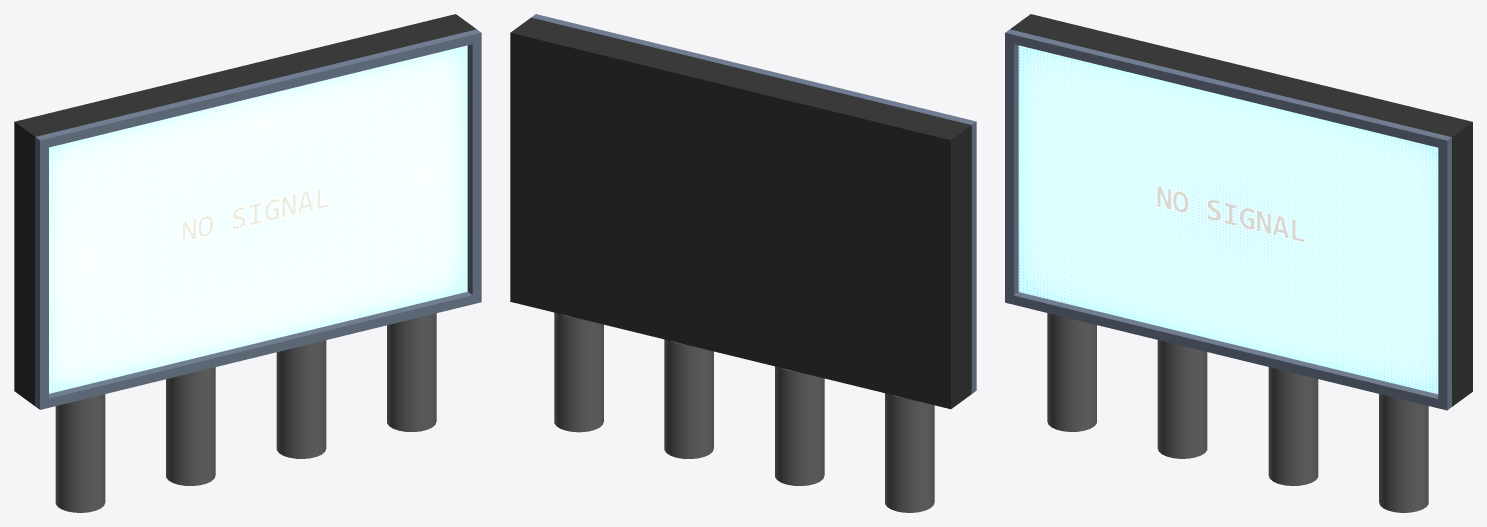
The model's file is backgroun billboard 1.fbx.
The picture shows the model from 3 angles, left to right: view 1: azimuth 30°, elevation 25°; view 2: azimuth 150°, elevation 25°; view 3: azimuth 330°, elevation 25°; orthographic projection.
Visible parts, largest first — view 1: billboard.002; view 2: billboard.002; view 3: billboard.002.
Boxes of the visible parts, left/top/right/bottom form: billboard.002: left=14, top=14, right=481, bottom=512; billboard.002: left=510, top=14, right=976, bottom=512; billboard.002: left=1005, top=14, right=1472, bottom=512.
Bounding box in the file's own units: 1320 × 1100 × 134.
4 materials, 4 textured.
